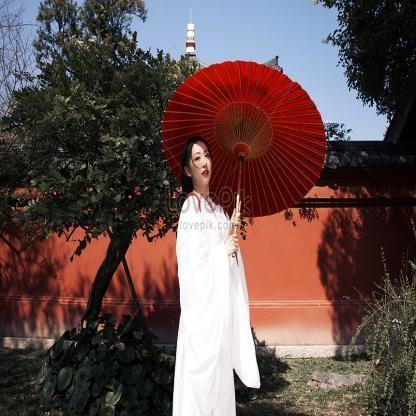Umbrella: (152, 56, 335, 214)
